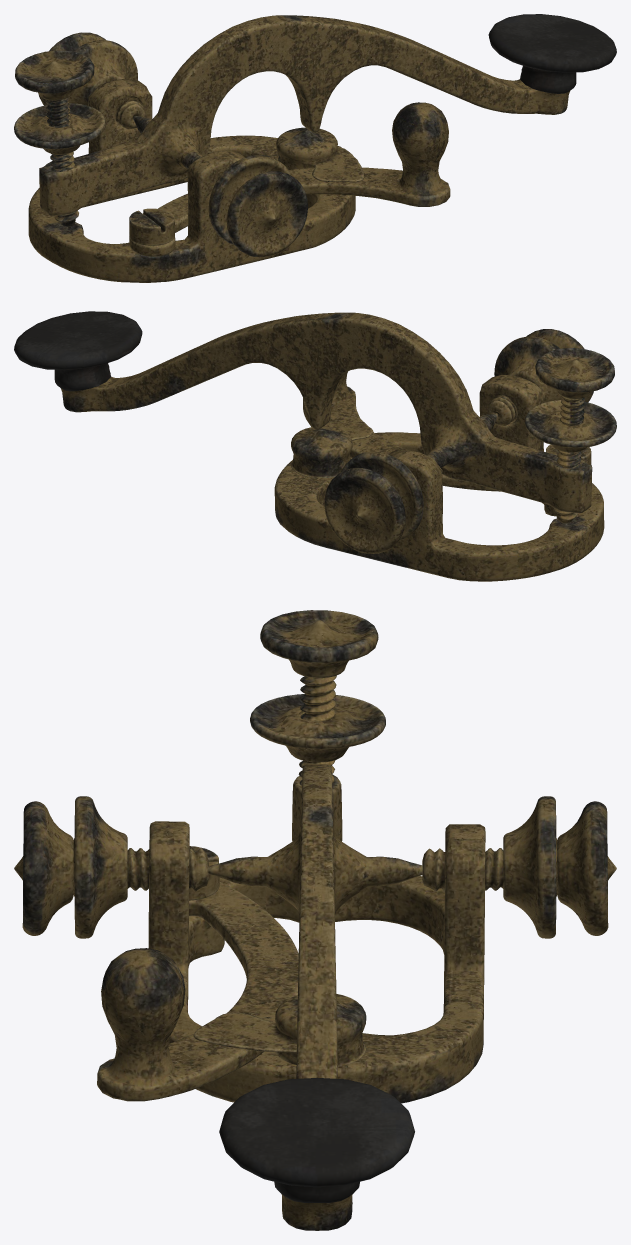
3 views of the same model, one above another, from view 1: azimuth 30°, elevation 25°; view 2: azimuth 150°, elevation 25°; view 3: azimuth 270°, elevation 25° (orthographic). The views are drawn at different scales.
Visible parts, largest first — view 1: Telegraph-_Telegrafo_0; view 2: Telegraph-_Telegrafo_0; view 3: Telegraph-_Telegrafo_0.
Part boxes in pixels (x1=…): Telegraph-_Telegrafo_0: x1=14, y1=14, x2=616, y2=282; Telegraph-_Telegrafo_0: x1=14, y1=311, x2=616, y2=581; Telegraph-_Telegrafo_0: x1=14, y1=610, x2=616, y2=1230.
Bounding box in the file's own units: 42.48 × 13.53 × 25.6.
Materials: 1 (1 with a texture image).
